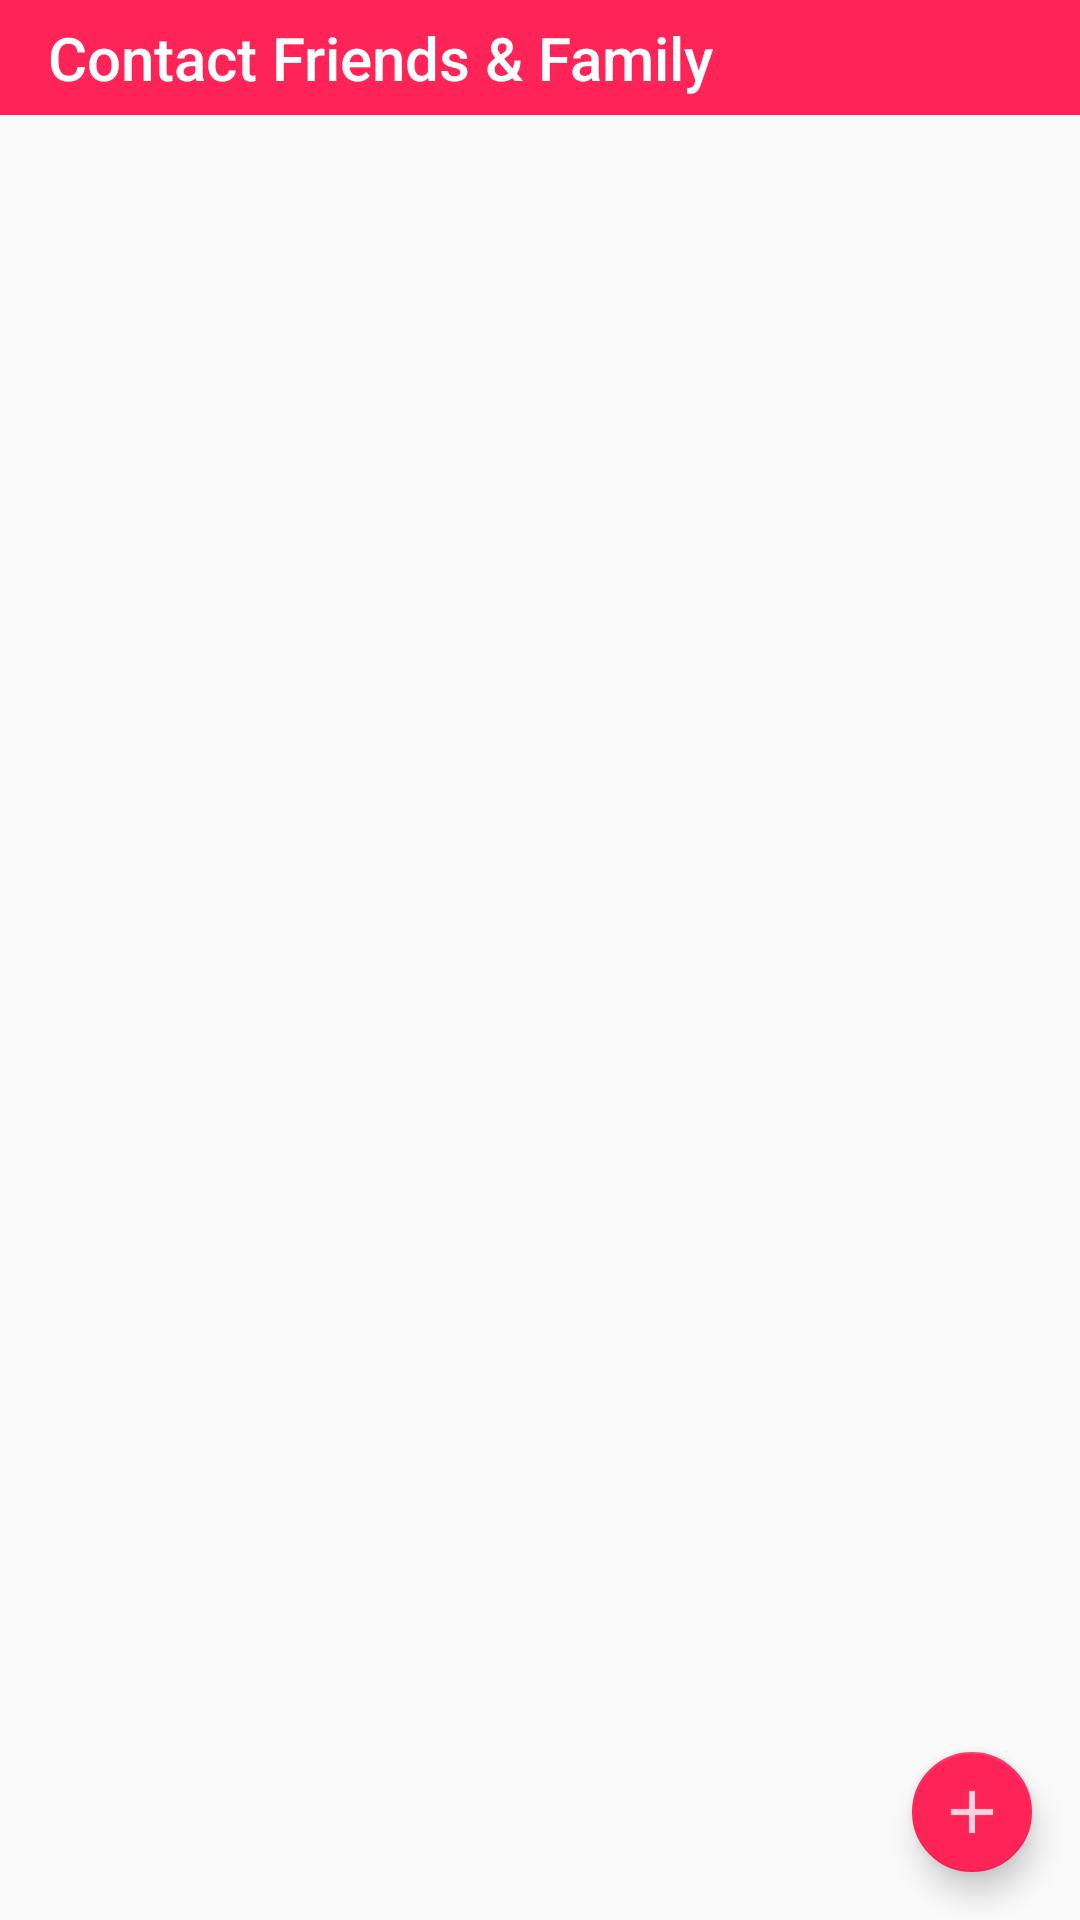

Point at icon controls on the screen. Image size 1080×1920, points as (x=x, y=y).
add: (x=972, y=1812)
